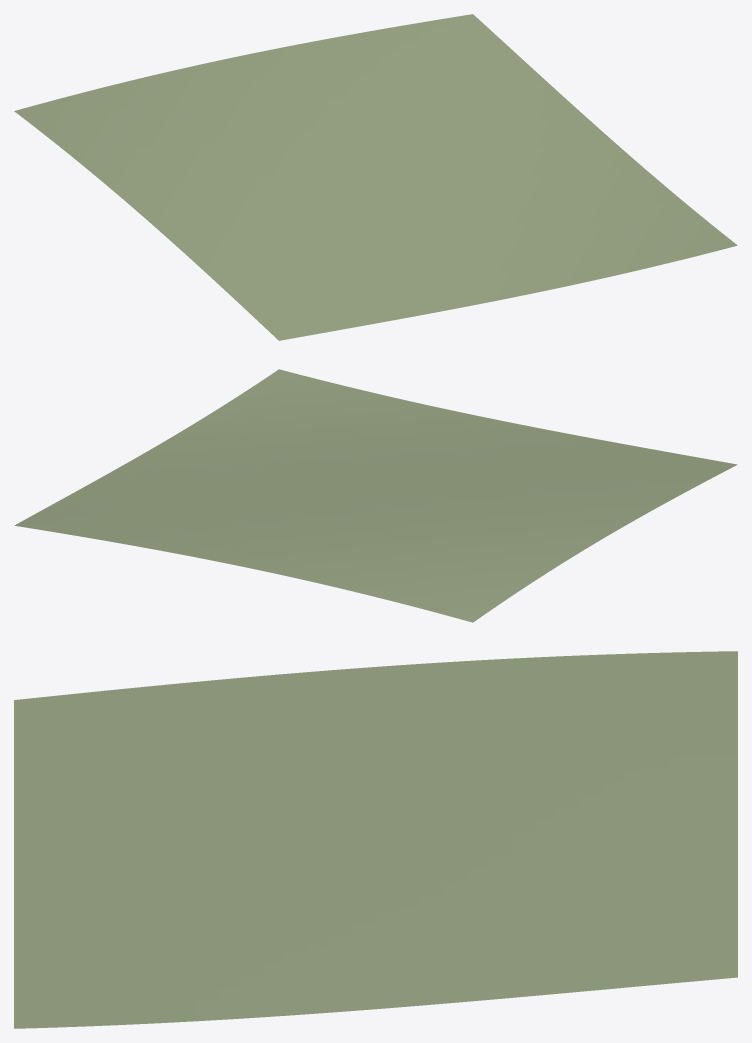
The model's file is alpine-2-12.glb.
3 views of the same model, one above another, from view 1: azimuth 30°, elevation 25°; view 2: azimuth 150°, elevation 25°; view 3: azimuth 270°, elevation 25° (orthographic). The views are drawn at different scales.
Parts seen in each view (by area): view 1: alpine-2-12; view 2: alpine-2-12; view 3: alpine-2-12.
Boxes of the visible parts, x1,y1,x2,y2 form: alpine-2-12: (14, 14, 737, 340); alpine-2-12: (14, 369, 737, 622); alpine-2-12: (14, 651, 737, 1028).
Bounding box in the file's own units: 256 × 29.36 × 256.
